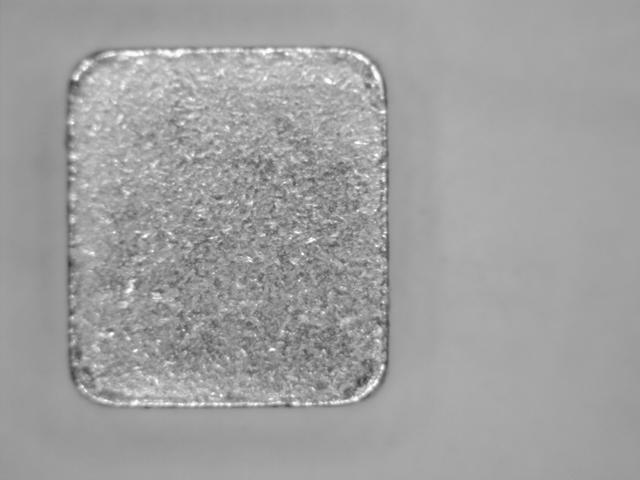ok: (53, 40, 397, 417)
